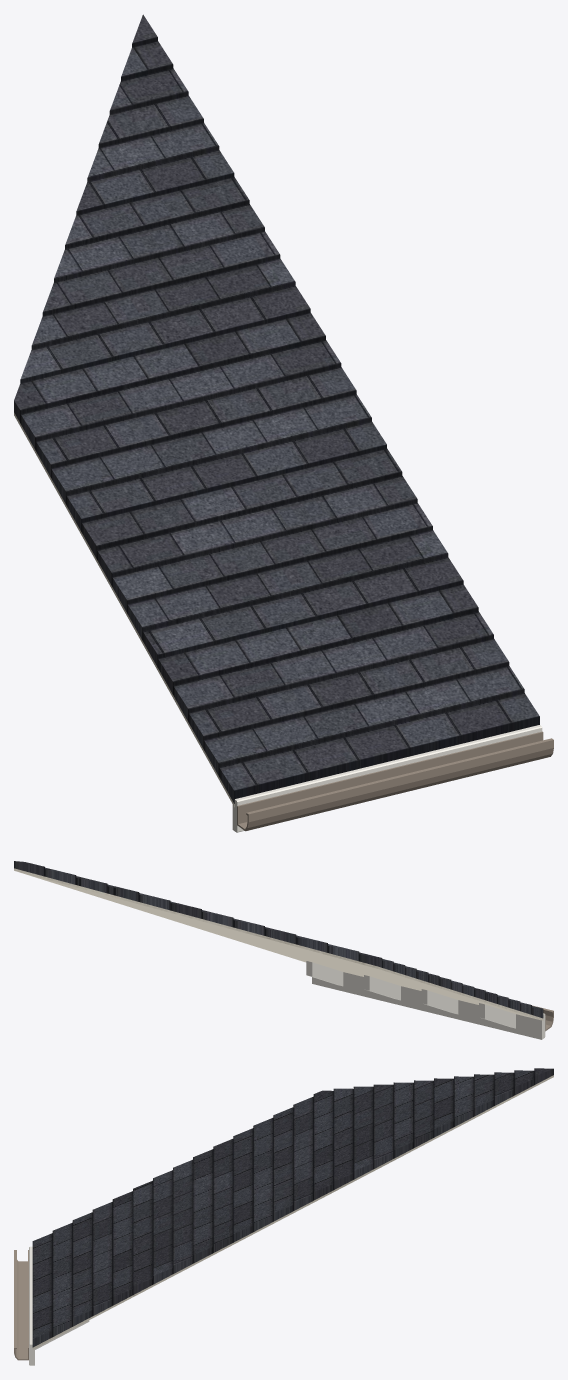
Rendered from roof_main_4_l.glb.
3 renders of one model, top to bottom at view 1: azimuth 30°, elevation 25°; view 2: azimuth 150°, elevation 25°; view 3: azimuth 270°, elevation 25°, orthographic. The views are drawn at different scales.
Visible parts, largest first — view 1: roof_main_4_l_shingles, roof_main_4_l_gutter, roof_main_4_l_trim, roof_main_4_l_plaster; view 2: roof_main_4_l_shingles, roof_main_4_l_plaster, roof_main_4_l_trim; view 3: roof_main_4_l_shingles, roof_main_4_l_gutter, roof_main_4_l_plaster, roof_main_4_l_trim.
Boxes of the visible parts, box(x1,y1,x2,y2) form: roof_main_4_l_shingles: box(14, 14, 539, 803); roof_main_4_l_gutter: box(237, 731, 553, 831); roof_main_4_l_trim: box(232, 725, 542, 832); roof_main_4_l_plaster: box(14, 412, 234, 806); roof_main_4_l_shingles: box(14, 861, 543, 1018); roof_main_4_l_plaster: box(14, 868, 543, 1020); roof_main_4_l_trim: box(306, 961, 545, 1039); roof_main_4_l_shingles: box(32, 1068, 553, 1347); roof_main_4_l_gutter: box(14, 1250, 28, 1360); roof_main_4_l_plaster: box(32, 1075, 553, 1349); roof_main_4_l_trim: box(29, 1246, 89, 1365).
Size of the model in its own units: 2 by 2.83 by 4.66.
Materials: 4 (2 with a texture image).
